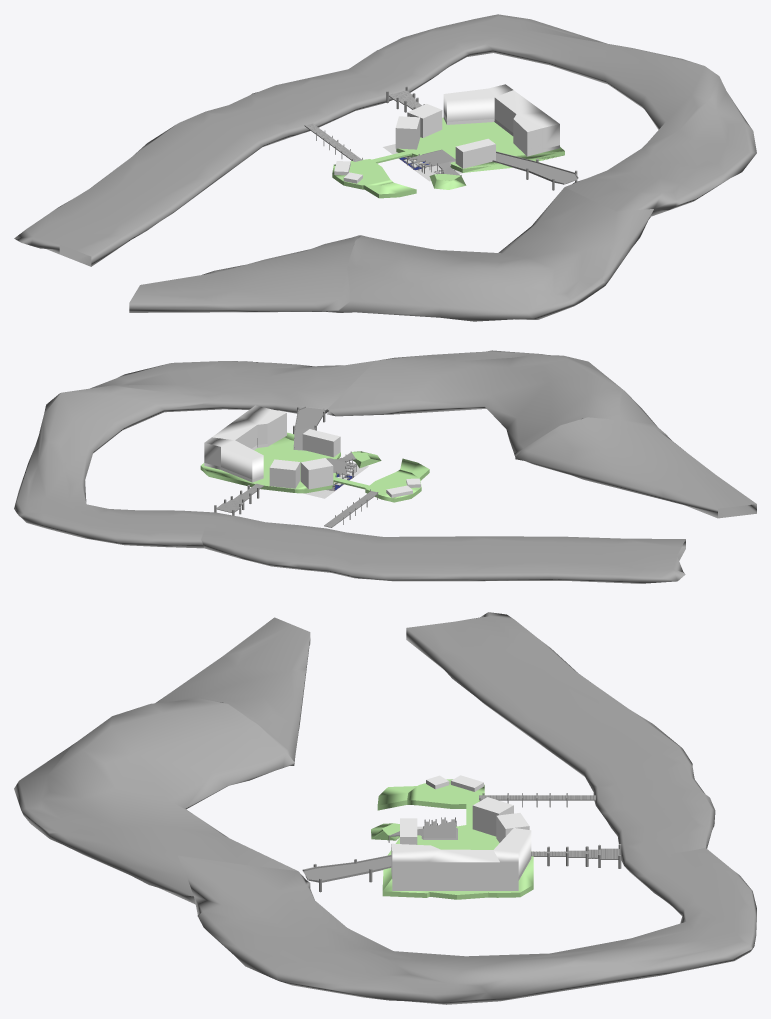
Rendered from blocked out map for first playtest.fbx.
The picture shows the model from 3 angles, top to bottom: view 1: azimuth 30°, elevation 25°; view 2: azimuth 150°, elevation 25°; view 3: azimuth 270°, elevation 25°; orthographic projection. The views are drawn at different scales.
Visible parts, largest first — view 1: pCube4, polySurface29, polySurface18, polySurface14, polySurface21, polySurface5, polySurface47, polySurface16, polySurface12, polySurface257; view 2: pCube4, polySurface29, polySurface18, polySurface14, polySurface47, polySurface5, polySurface16, polySurface21, polySurface257, Plane, pCylinder186; view 3: pCube4, polySurface29, polySurface18, polySurface14, polySurface21, polySurface47, polySurface257, polySurface12, pCylinder186.
Part boxes in pixels (x1,y1,x2,y2): pCube4: [14, 14, 756, 321]; polySurface29: [443, 84, 559, 156]; polySurface18: [396, 117, 564, 172]; polySurface14: [332, 159, 416, 198]; polySurface21: [492, 151, 578, 184]; polySurface5: [455, 138, 495, 168]; polySurface47: [395, 116, 420, 149]; polySurface16: [407, 104, 442, 137]; polySurface12: [407, 149, 460, 175]; polySurface257: [304, 123, 362, 161]; pCube4: [14, 350, 756, 583]; polySurface29: [204, 405, 286, 482]; polySurface18: [200, 432, 340, 493]; polySurface14: [365, 458, 429, 502]; polySurface47: [300, 458, 333, 489]; polySurface5: [302, 429, 340, 457]; polySurface16: [269, 459, 300, 488]; polySurface21: [293, 406, 324, 450]; polySurface257: [324, 489, 378, 527]; Plane: [303, 461, 368, 498]; pCylinder186: [216, 483, 263, 512]; pCube4: [14, 612, 756, 1004]; polySurface29: [391, 828, 531, 890]; polySurface18: [382, 825, 533, 899]; polySurface14: [377, 779, 484, 810]; polySurface21: [302, 855, 391, 882]; polySurface47: [472, 797, 513, 836]; polySurface257: [479, 793, 595, 807]; polySurface12: [389, 819, 457, 839]; pCylinder186: [531, 848, 619, 859].
Bounding box in the file's own units: 447142 × 24088 × 361260.
